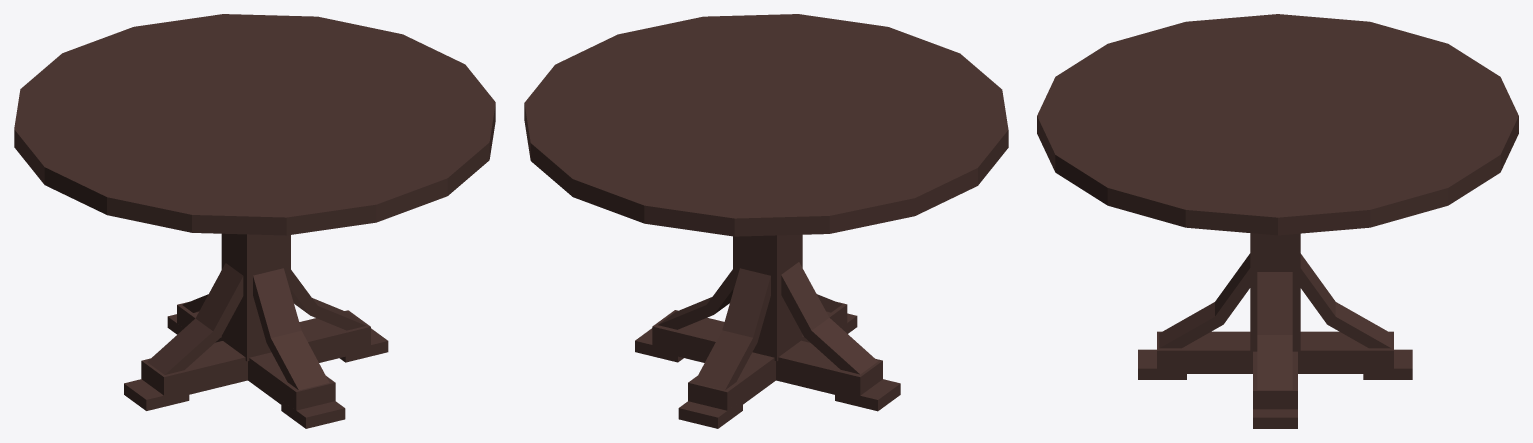
File: RoundTable.fbx
The picture shows the model from 3 angles, left to right: view 1: azimuth 30°, elevation 25°; view 2: azimuth 150°, elevation 25°; view 3: azimuth 270°, elevation 25°; orthographic projection.
Parts seen in each view (by area): view 1: Cylinder, Cube.002, Cube, Cube.009, Cube.007, Cube.001, Cube.008, Cube.004, Cube.006, Cube.003; view 2: Cylinder, Cube.002, Cube, Cube.010, Cube.007, Cube.001, Cube.008, Cube.004, Cube.005, Cube.003; view 3: Cylinder, Cube.001, Cube.008, Cube, Cube.009, Cube.010, Cube.002, Cube.003, Cube.005, Cube.006.
Part boxes in pixels (x1,y1,x2,y2): Cylinder: [14, 14, 495, 235]; Cube.002: [141, 310, 370, 395]; Cube: [221, 233, 290, 361]; Cube.009: [253, 268, 329, 390]; Cube.007: [147, 263, 243, 374]; Cube.001: [177, 301, 335, 410]; Cube.008: [291, 270, 365, 330]; Cube.004: [124, 379, 189, 410]; Cube.006: [281, 400, 345, 428]; Cube.003: [339, 328, 388, 362]; Cylinder: [524, 14, 1008, 236]; Cube.002: [652, 310, 882, 395]; Cube: [733, 234, 802, 361]; Cube.010: [694, 268, 770, 390]; Cube.007: [781, 262, 877, 374]; Cube.001: [688, 302, 847, 410]; Cube.008: [658, 269, 732, 329]; Cube.004: [835, 379, 900, 411]; Cube.005: [678, 399, 742, 428]; Cube.003: [635, 328, 683, 362]; Cylinder: [1037, 14, 1518, 235]; Cube.001: [1157, 331, 1393, 373]; Cube.008: [1257, 272, 1292, 389]; Cube: [1250, 233, 1300, 354]; Cube.009: [1159, 253, 1250, 348]; Cube.010: [1300, 253, 1391, 348]; Cube.002: [1253, 351, 1297, 409]; Cube.003: [1253, 409, 1297, 428]; Cube.005: [1363, 349, 1412, 379]; Cube.006: [1138, 349, 1186, 379].
Bounding box in the file's own units: 295 × 172 × 295.
